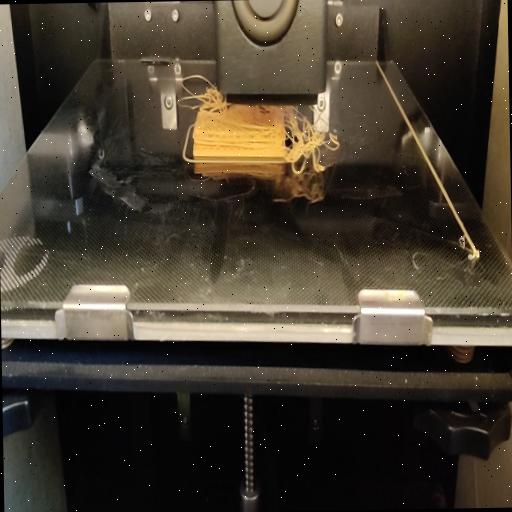spaghetti: (288, 108, 338, 174), (178, 68, 224, 116)
